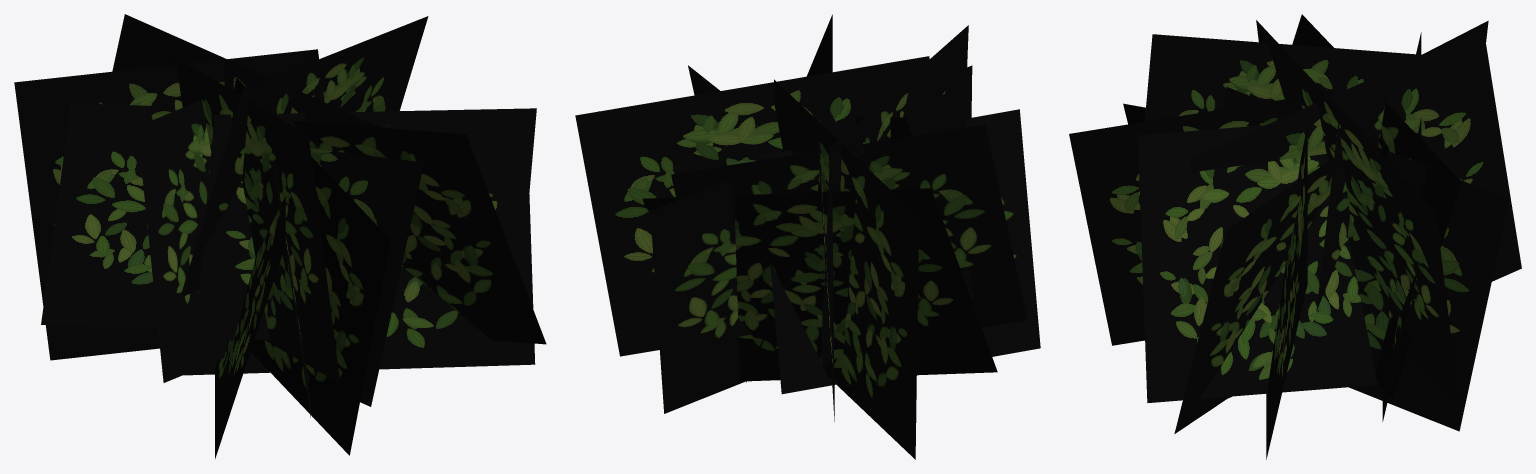
File: bush.glb
3 views of the same model, side by side, from view 1: azimuth 30°, elevation 25°; view 2: azimuth 150°, elevation 25°; view 3: azimuth 270°, elevation 25° (orthographic). The views are drawn at different scales.
Visible parts, largest first — view 1: Bush; view 2: Bush; view 3: Bush.
Boxes of the visible parts, x1,y1,x2,y2 form: Bush: [14, 14, 546, 458]; Bush: [575, 14, 1040, 459]; Bush: [1069, 14, 1521, 459].
Bounding box in the file's own units: 2.41 × 1.72 × 2.13.
1 material, 1 textured.
